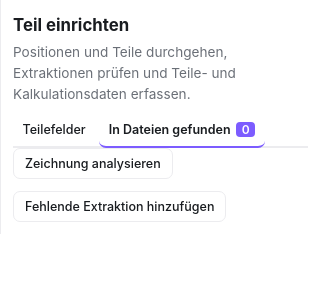
Test: FoundInFilesPanel — resilience › a failed status poll surfaces an error instead of stranding the spinner
Click the button "Zeichnung analysieren": (93, 163) [13,148,173,179]
Wait 2000 ms
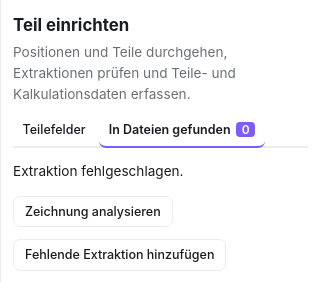
Expected: the button "Zeichnung analysieren" is enabled, [13,196,173,227]
Result: the message reads "Extraktion fehlgeschlagen." at [13,163,184,179]
